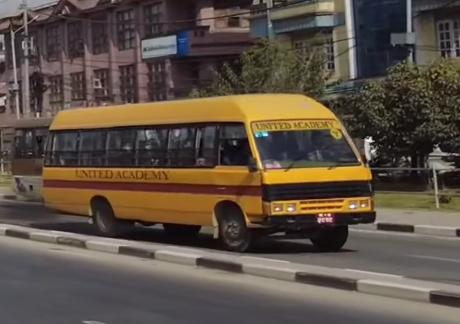school_bus: (39, 91, 378, 255)
